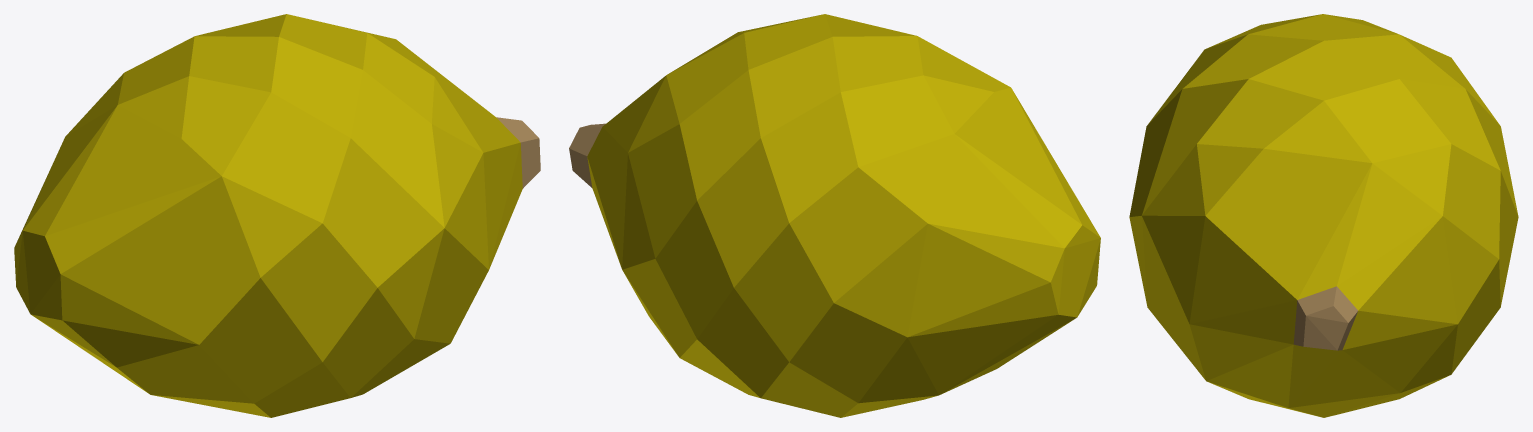
The model's file is lemon.glb.
3 views of the same model, side by side, from view 1: azimuth 30°, elevation 25°; view 2: azimuth 150°, elevation 25°; view 3: azimuth 270°, elevation 25° (orthographic).
Parts seen in each view (by area): view 1: lemon; view 2: lemon; view 3: lemon.
Part boxes in pixels (x1,y1,x2,y2): lemon: (14, 14, 540, 417); lemon: (569, 14, 1100, 417); lemon: (1129, 14, 1518, 417).
Bounding box in the file's own units: 1.61 × 1.1 × 1.1.
